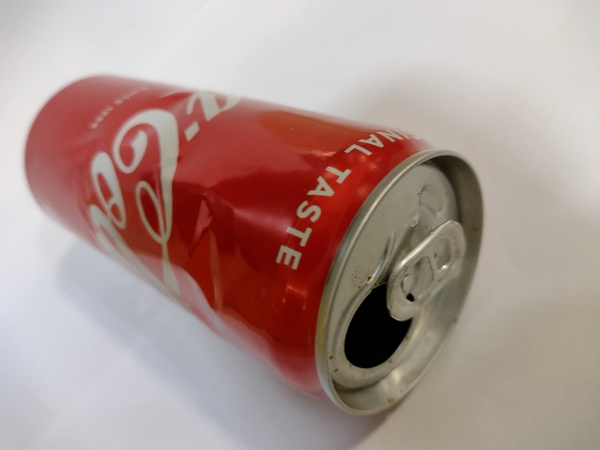can: (20, 68, 489, 427)
